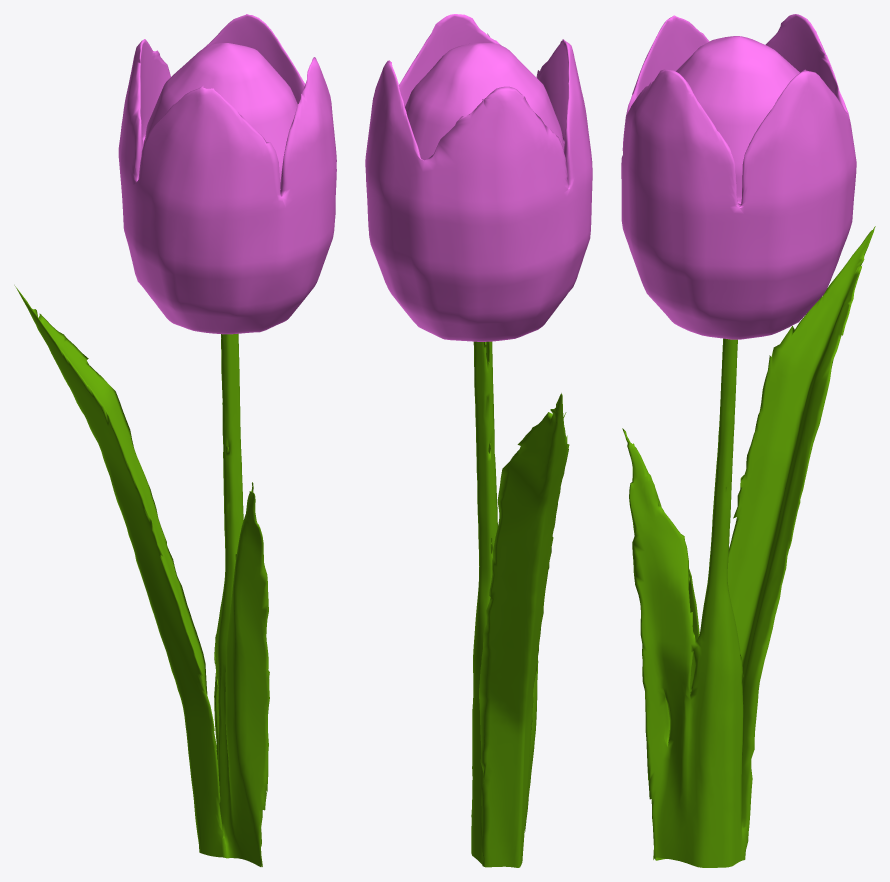
Rendered from pink2.glb.
3 views of the same model, side by side, from view 1: azimuth 30°, elevation 25°; view 2: azimuth 150°, elevation 25°; view 3: azimuth 270°, elevation 25° (orthographic). The views are drawn at different scales.
Visible parts, largest first — view 1: tulip_pink, tulip_leaf; view 2: tulip_pink, tulip_leaf; view 3: tulip_pink, tulip_leaf.
Part boxes in pixels (x1=…): tulip_pink: x1=118, y1=14, x2=336, y2=334; tulip_leaf: x1=14, y1=285, x2=269, y2=866; tulip_pink: x1=365, y1=14, x2=592, y2=341; tulip_leaf: x1=471, y1=341, x2=569, y2=867; tulip_pink: x1=621, y1=14, x2=856, y2=339; tulip_leaf: x1=622, y1=226, x2=875, y2=867.
Bounding box in the file's own units: 0.2801 × 0.8916 × 0.2477.
